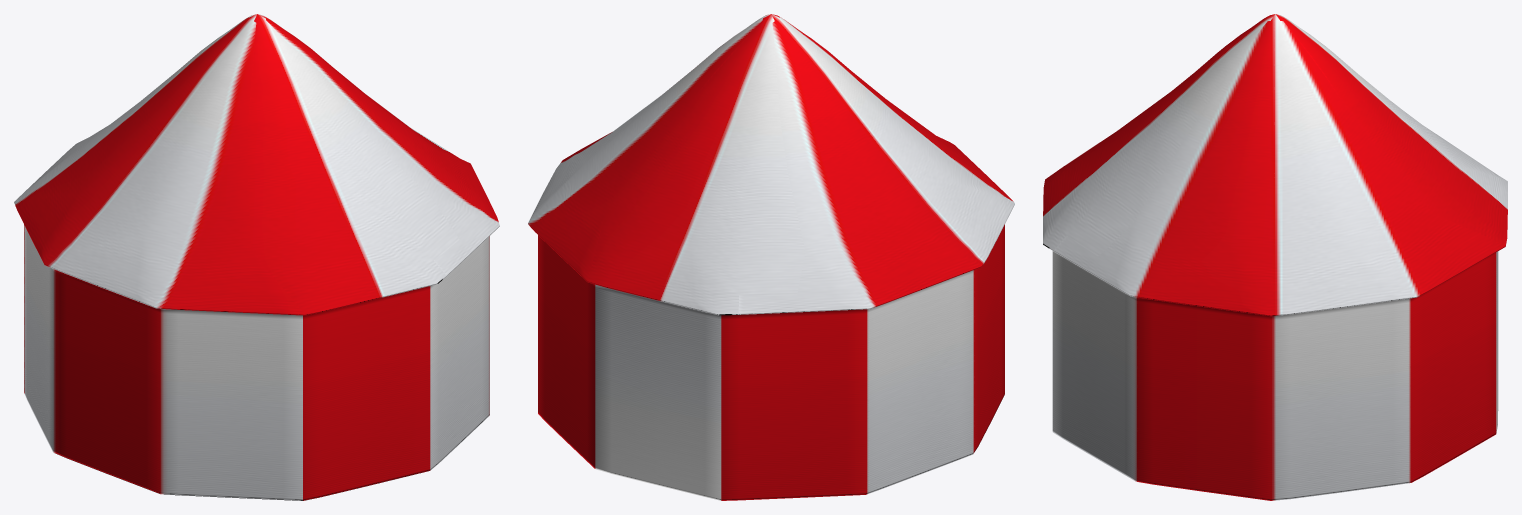
Rendered from kawaiine_chapiteau.fbx.
The picture shows the model from 3 angles, left to right: view 1: azimuth 30°, elevation 25°; view 2: azimuth 150°, elevation 25°; view 3: azimuth 270°, elevation 25°; orthographic projection.
Parts seen in each view (by area): view 1: kawaiine_chapiteau; view 2: kawaiine_chapiteau; view 3: kawaiine_chapiteau.
Boxes of the visible parts, <box> form: kawaiine_chapiteau: <box>14,14,499,500</box>; kawaiine_chapiteau: <box>528,14,1014,500</box>; kawaiine_chapiteau: <box>1043,14,1507,500</box>.
Bounding box in the file's own units: 172 × 152 × 164.
1 material, 1 textured.
